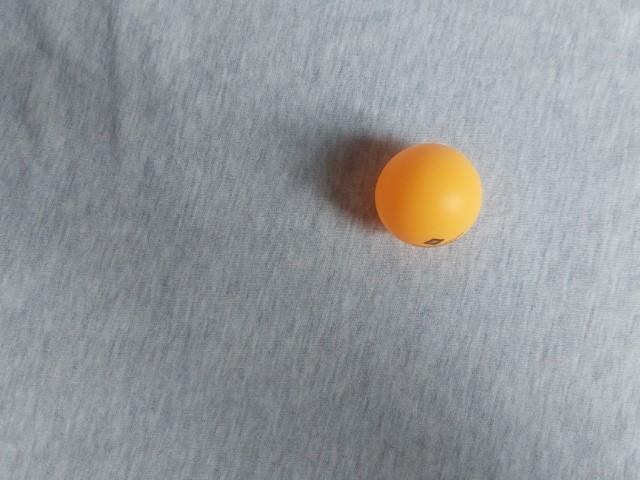oball: (151, 225, 271, 344)
